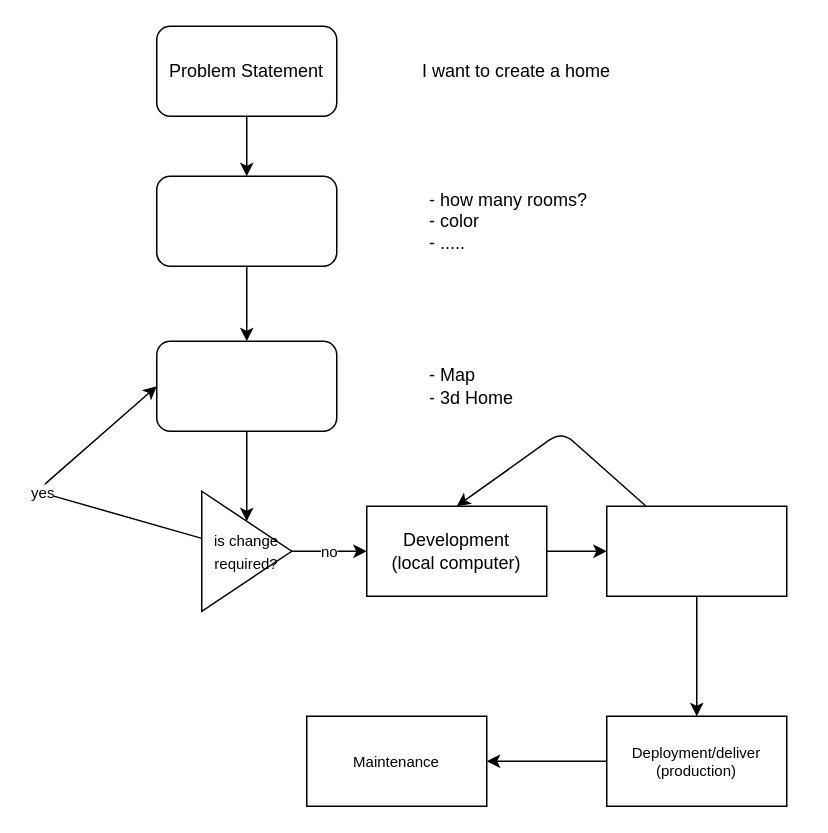
Image size: 828x833. Some labels were removed from this diagram. The shapes that lost their labels are listed below. From the top down, each one's centre as x and y in pixels, then its label:
At point 246,220: "Requirement Gathering".
At point 246,385: "Prototyping".
At point 696,550: "Testing".
